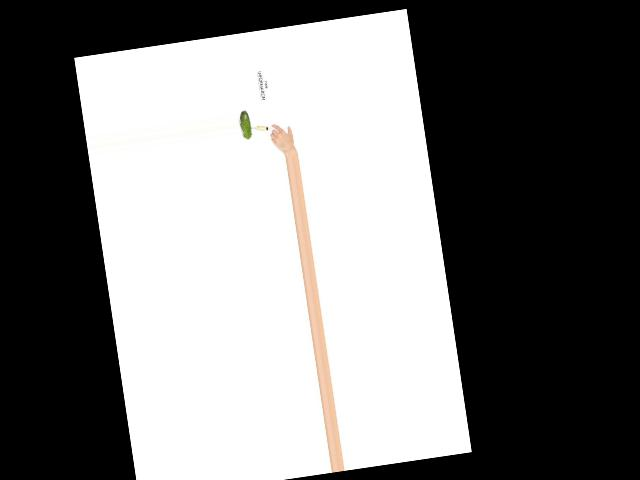cucumber: (239, 110, 252, 140)
